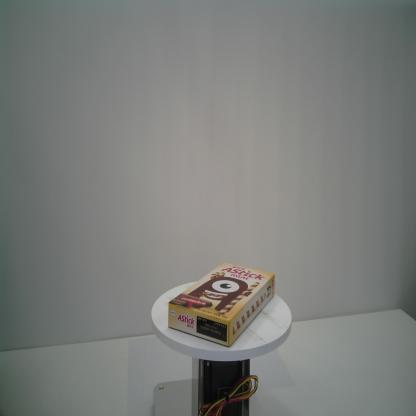Dessert: (168, 262, 275, 347)
